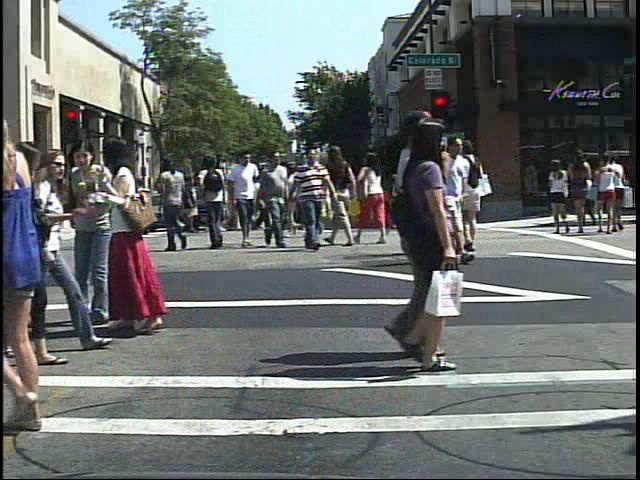person: (357, 116, 482, 381), (0, 87, 60, 438), (103, 133, 197, 343), (33, 141, 111, 353), (401, 104, 453, 366), (68, 134, 112, 337), (429, 128, 481, 259), (421, 130, 466, 261), (287, 143, 335, 255), (454, 134, 494, 259), (256, 144, 294, 254), (326, 140, 362, 248), (227, 148, 263, 254), (357, 145, 393, 248), (157, 153, 193, 255), (198, 154, 233, 252), (547, 152, 575, 238), (202, 169, 223, 238), (65, 182, 85, 232)
